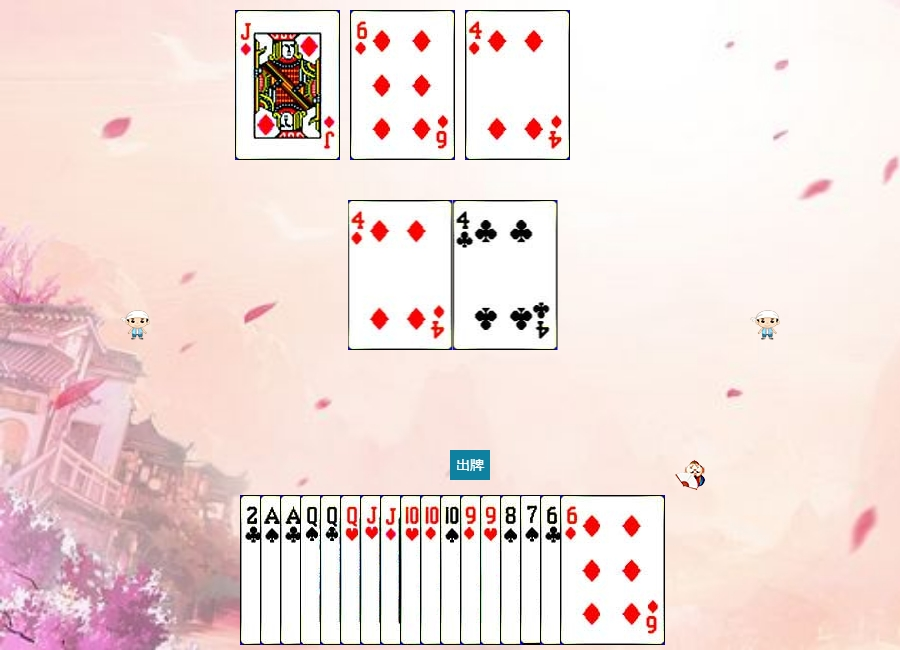10~1: (420, 495, 525, 645)
10~3: (400, 495, 505, 645)
10~4: (440, 495, 545, 645)
11~1: (235, 10, 340, 160), (380, 495, 485, 645)
11~3: (360, 495, 465, 645)
12~2: (320, 495, 425, 645)
12~3: (340, 495, 445, 645)
12~4: (300, 495, 405, 645)
14~2: (280, 495, 385, 645)
14~4: (260, 495, 365, 645)
15~2: (240, 495, 345, 645)
4~1: (465, 10, 570, 160), (348, 200, 453, 350)
4~2: (453, 200, 558, 350)
6~1: (350, 10, 455, 160), (560, 495, 665, 645)
6~2: (540, 495, 645, 645)
7~4: (520, 495, 625, 645)
8~4: (500, 495, 605, 645)
9~1: (460, 495, 565, 645)
9~3: (480, 495, 585, 645)
